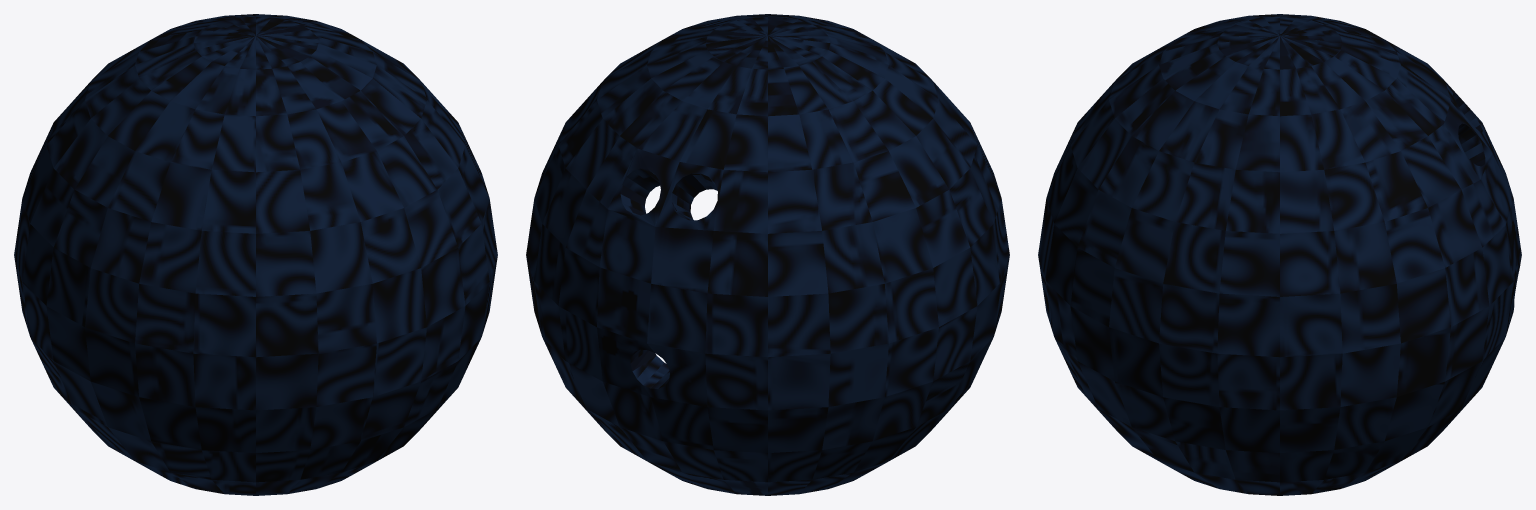
Rendered from BowlingBall.gltf.
3 renders of one model, left to right at view 1: azimuth 30°, elevation 25°; view 2: azimuth 150°, elevation 25°; view 3: azimuth 270°, elevation 25°, orthographic.
Parts seen in each view (by area): view 1: Sphere; view 2: Sphere; view 3: Sphere.
Part boxes in pixels (bbox=[...]): Sphere: bbox=[14, 14, 497, 495]; Sphere: bbox=[526, 14, 1009, 495]; Sphere: bbox=[1038, 14, 1521, 495].
Bounding box in the file's own units: 2 × 2 × 2.
Materials: 1 (1 with a texture image).
